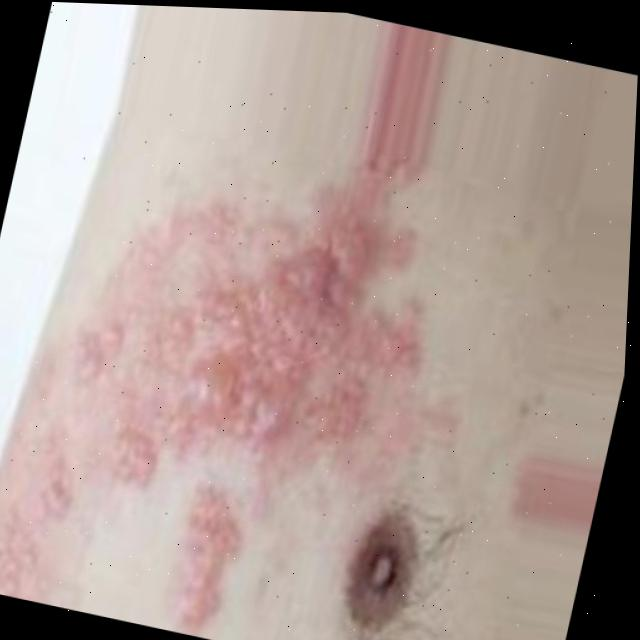Shingles: (0, 143, 414, 640)
